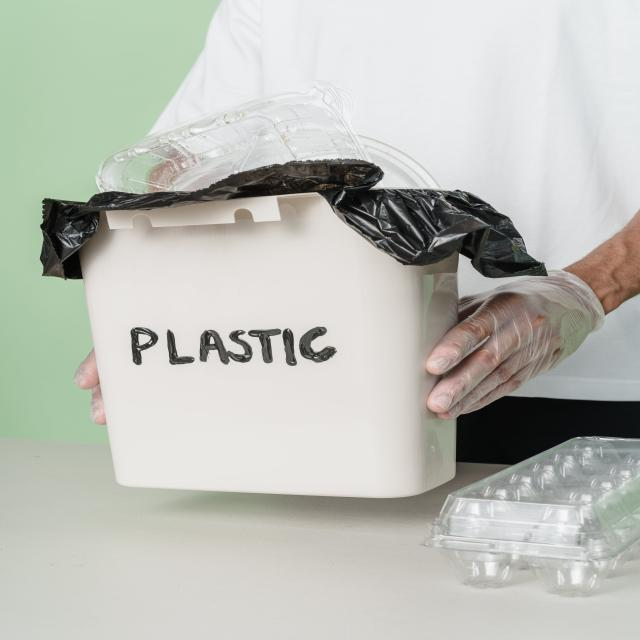plastic: (469, 464, 622, 579), (144, 130, 374, 165)
